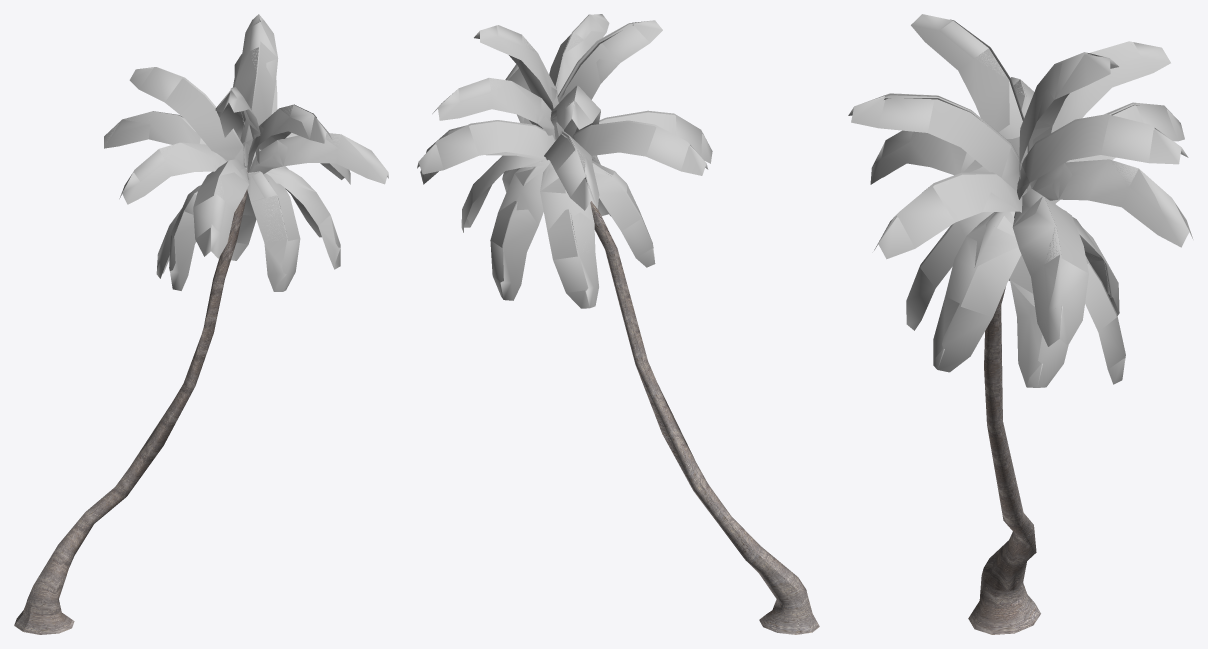
The model's file is palm2.dae.
The picture shows the model from 3 angles, left to right: view 1: azimuth 30°, elevation 25°; view 2: azimuth 150°, elevation 25°; view 3: azimuth 270°, elevation 25°; orthographic projection. The views are drawn at different scales.
Visible parts, largest first — view 1: meshU3D; view 2: meshU3D; view 3: meshU3D.
Part boxes in pixels (x1,y1,x2,y2): meshU3D: (14, 14, 388, 634); meshU3D: (417, 14, 819, 634); meshU3D: (848, 14, 1193, 634).
Bounding box in the file's own units: 232 × 329 × 141.
